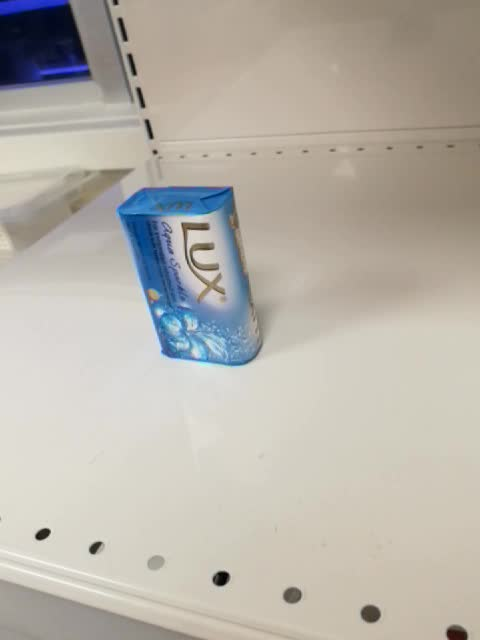soap: (114, 185, 266, 367)
